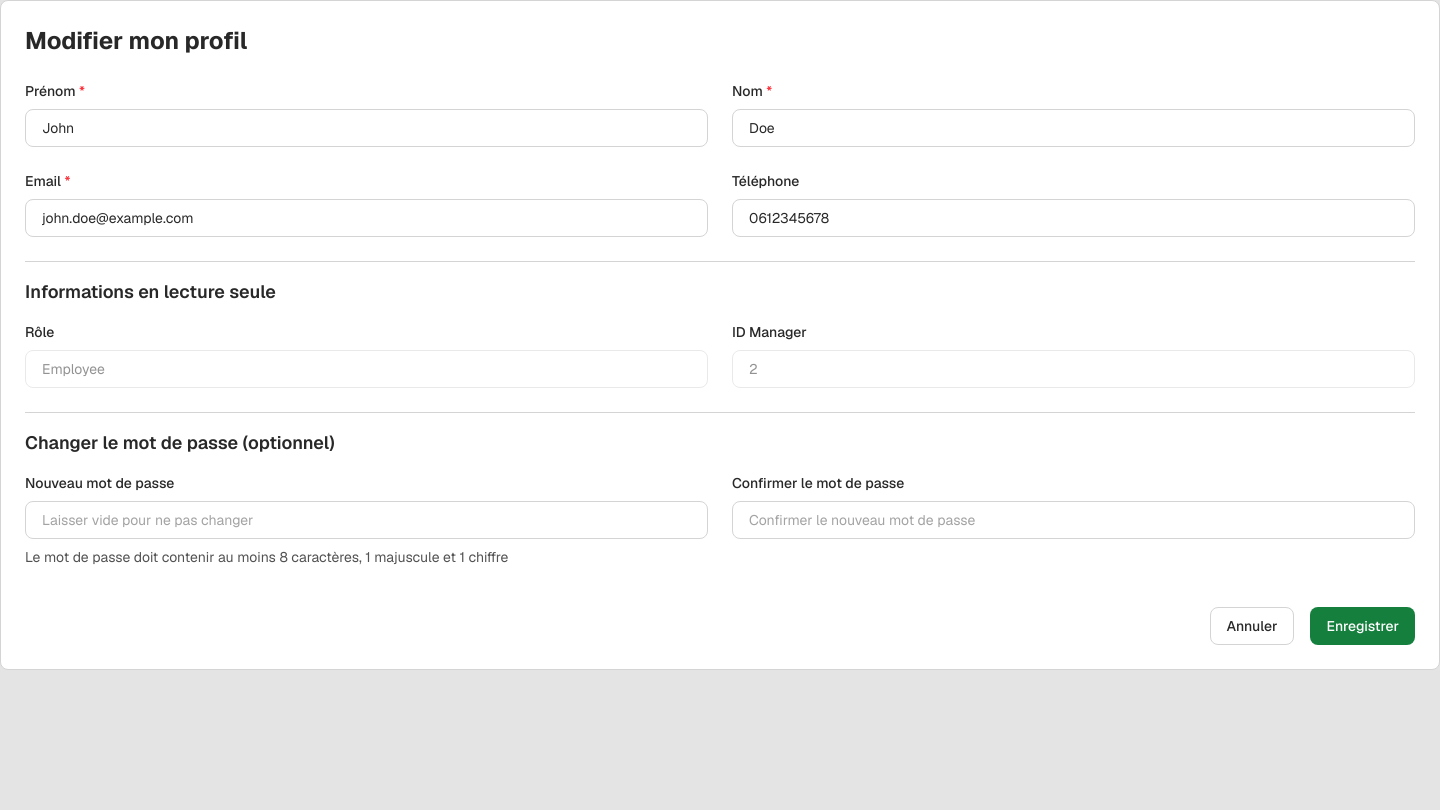
Test case: ProfileEditForm › Form Validation - Required Fields › should show error when email is empty
Clear the field labelled "Email *". click: (366, 218)
box: [25, 199, 708, 237]
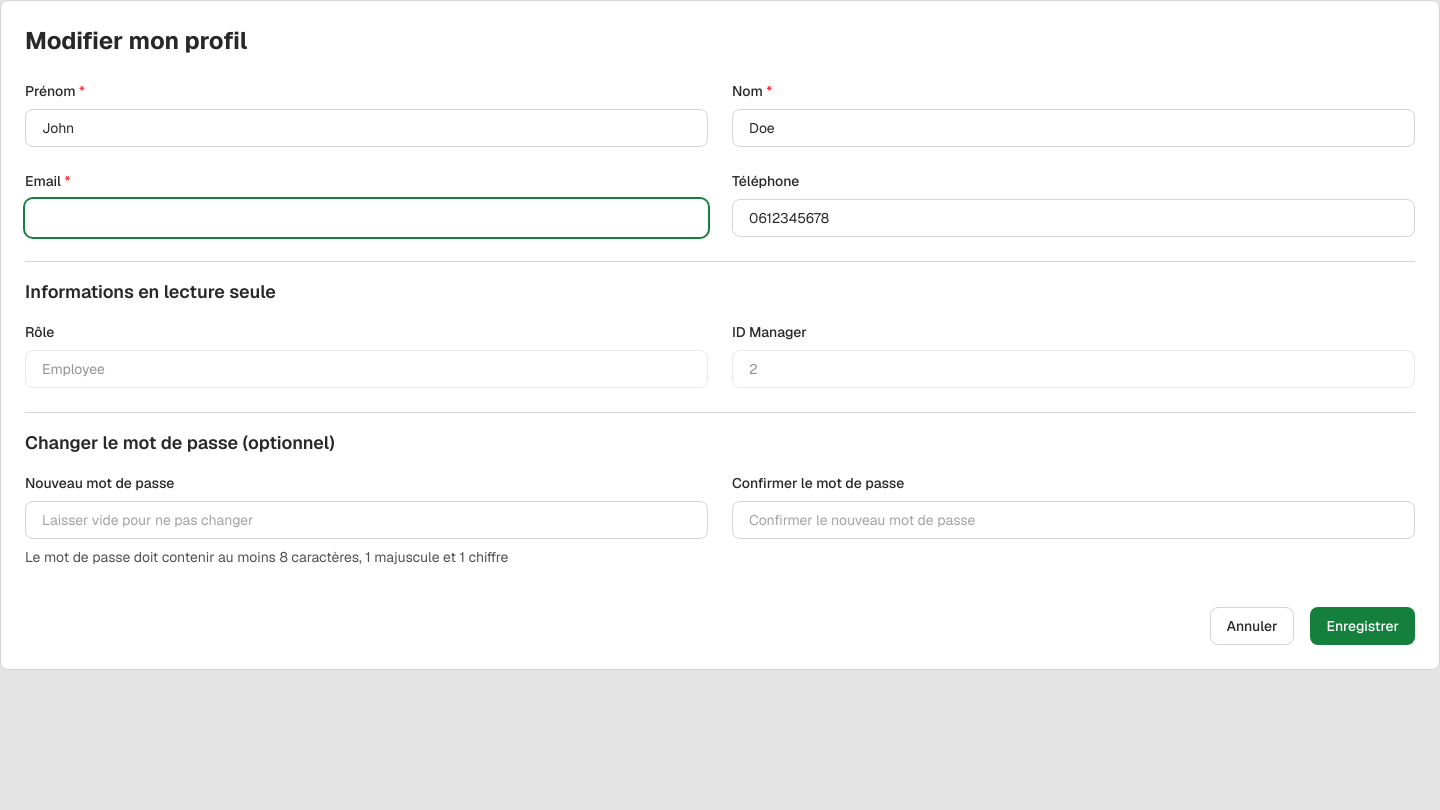
Click the button "Enregistrer". click: (1363, 626)
box: [1310, 607, 1415, 645]
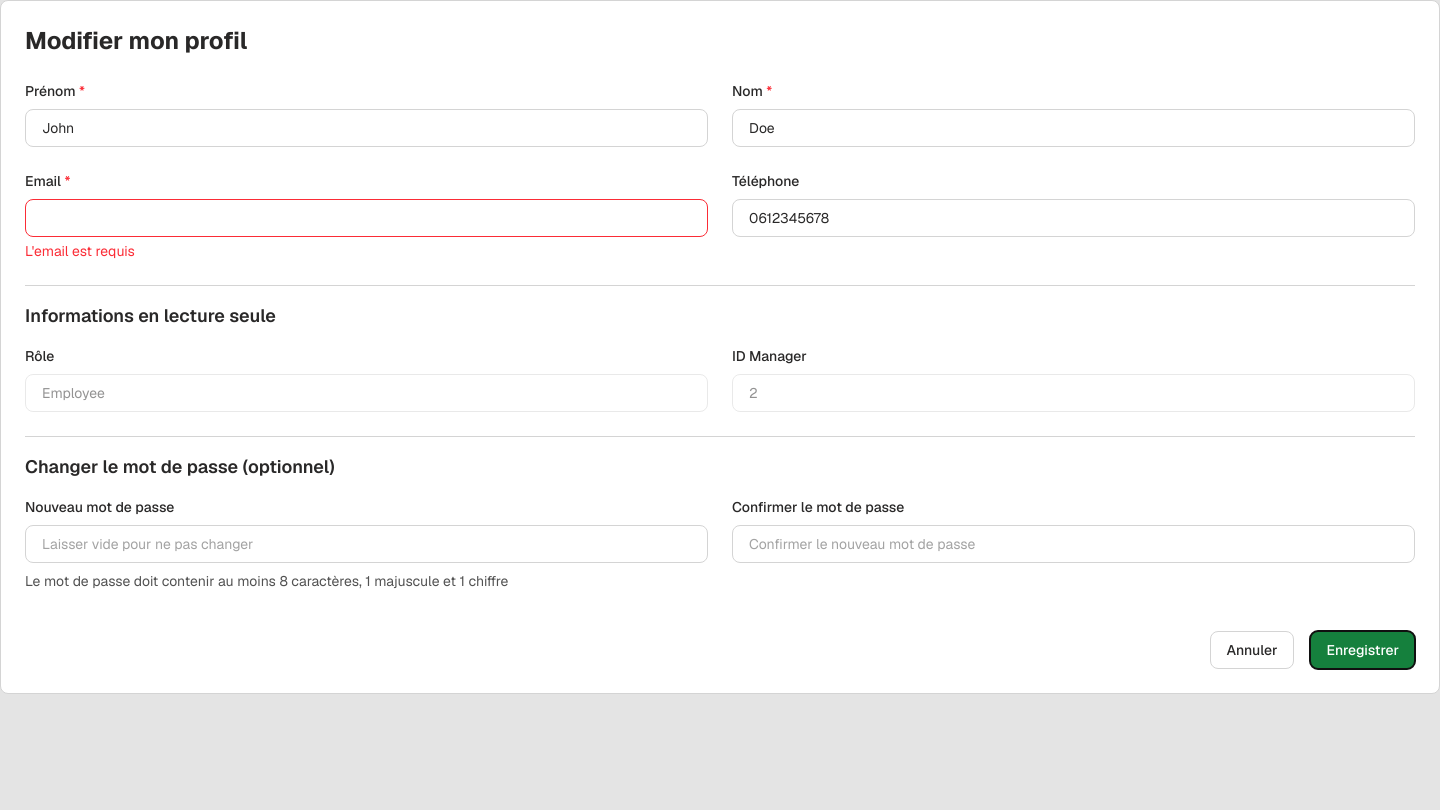
Expected: the text "L'email est requis" is shown, [25, 242, 135, 260]
